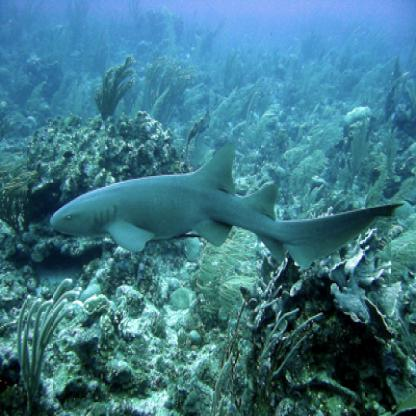Shark -Selachimorpha-: (43, 137, 408, 273)
